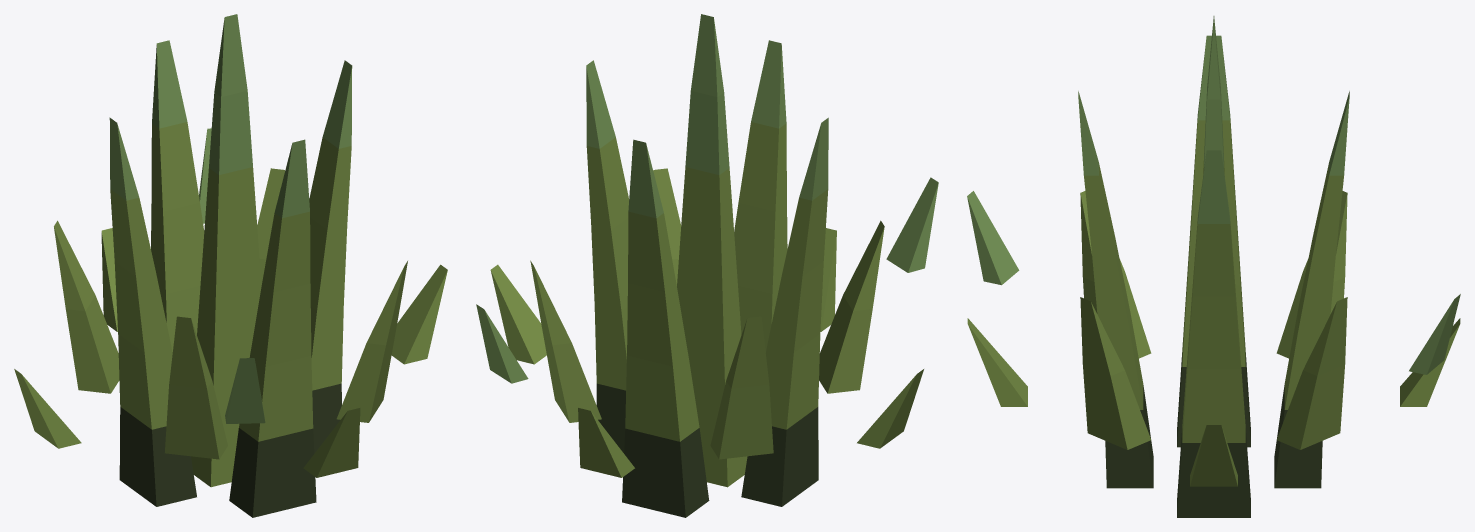
Rendered from grass_tuft_tall_01.glb.
The picture shows the model from 3 angles, left to right: view 1: azimuth 30°, elevation 25°; view 2: azimuth 150°, elevation 25°; view 3: azimuth 270°, elevation 25°; orthographic projection.
Visible parts, largest first — view 1: grass_tuft_tall_01; view 2: grass_tuft_tall_01; view 3: grass_tuft_tall_01.
Boxes of the visible parts, <box> form: grass_tuft_tall_01: <box>14,14,447,517</box>; grass_tuft_tall_01: <box>476,14,938,517</box>; grass_tuft_tall_01: <box>967,16,1460,517</box>.
Size of the model in its own units: 0.588 by 0.6 by 0.5895.
Materials: 1 (1 with a texture image).
